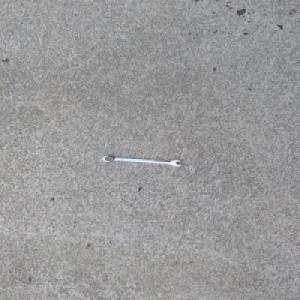Wrench: (102, 155, 184, 167)
